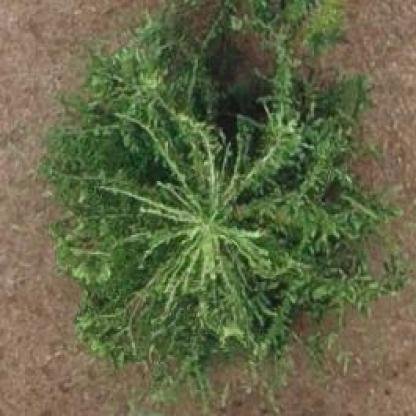Coniferous Tree: (48, 9, 384, 390)
